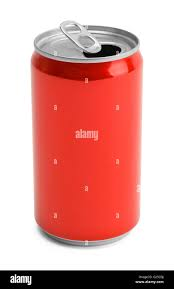can: (32, 19, 140, 249)
